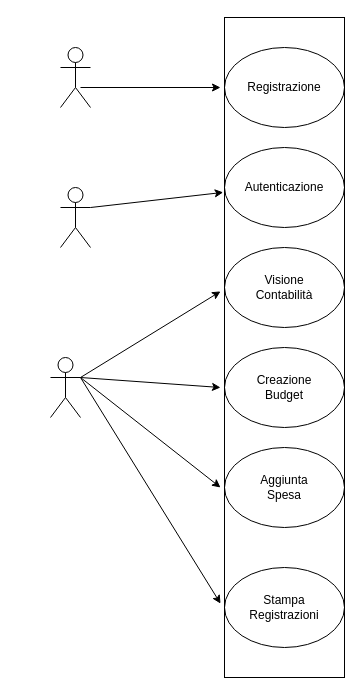
Some shapes in this 362 by 695 pixel diagram are drawn without their labels. Each missing label, with the centre of its shape:
"Utente autenticato" goes at point (65, 387).
"Utente non Registrato" goes at point (75, 77).
"Utente Registrato" goes at point (75, 217).
